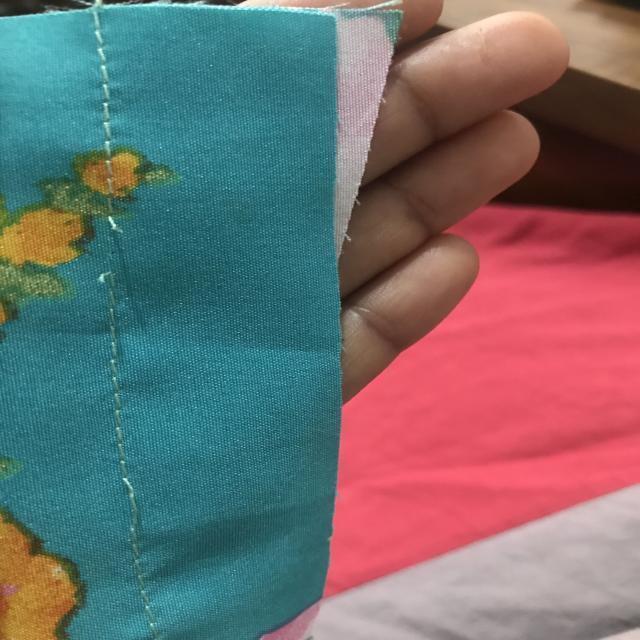broken: (76, 201, 140, 291)
skip: (107, 473, 160, 535)
